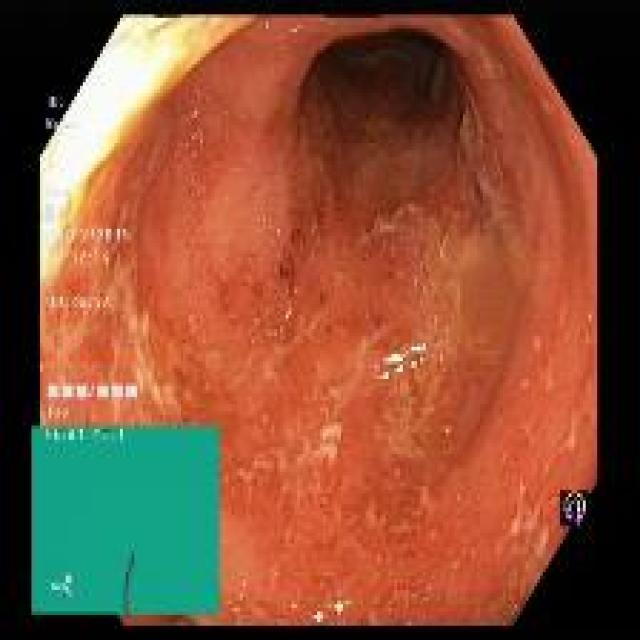ulcerative-colitis: (41, 19, 596, 624)
